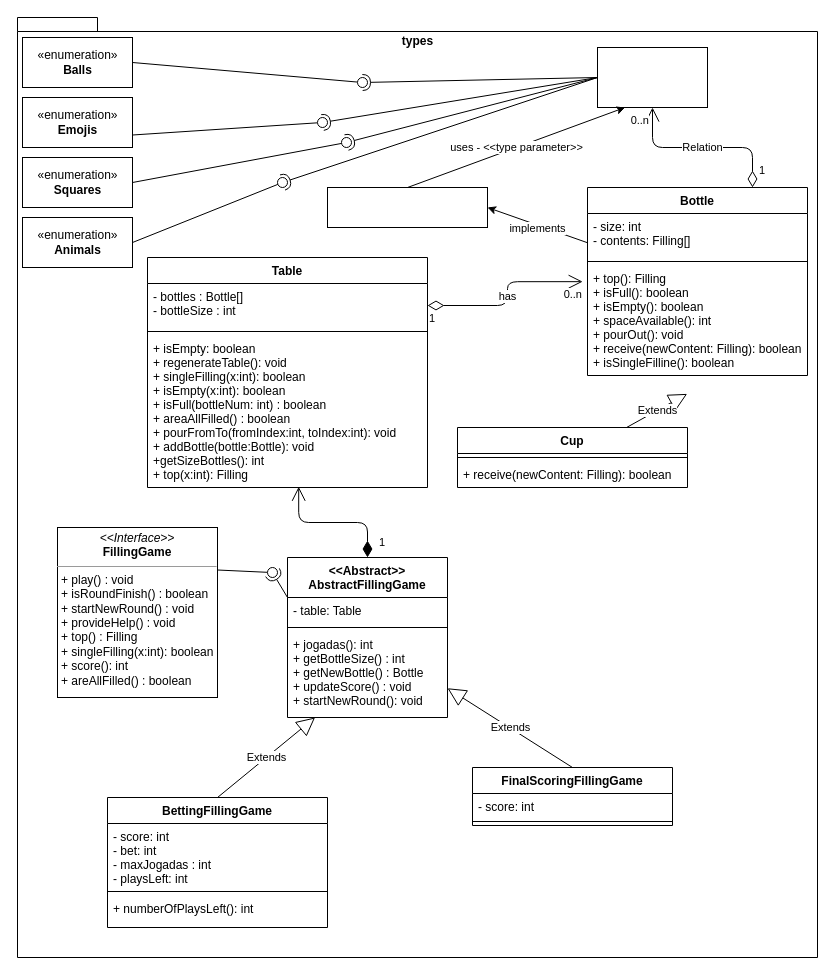
This 835x975 diagram has some shape labels left out. The shapes that lost their labels are listed below. From the top down, each one's centre as x and y in pixels, then its label:
[652,77]: <<Interface>> Filling + fillings : Filling[]
[407,207]: <<Interface>> java.lang.Iterable<Filling>
